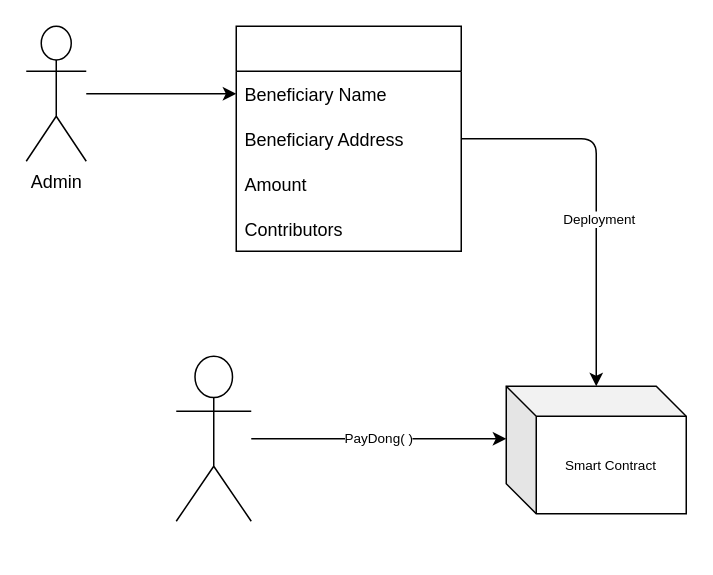
Some shapes in this 713 by 575 pixel diagram are drawn without their labels. Here are the shapes that lost their labels. From the top down, the box of each, then its label:
(235, 25, 461, 251): Constructor Parameters
(175, 355, 251, 521): User
